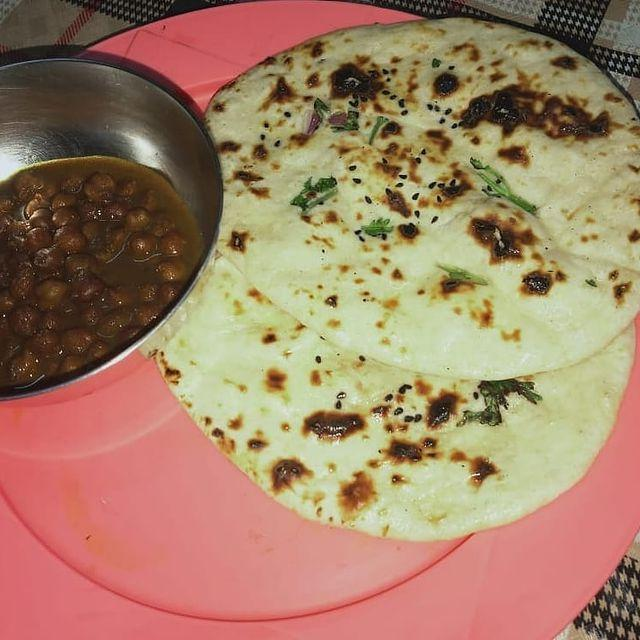Chole: (0, 139, 179, 353)
